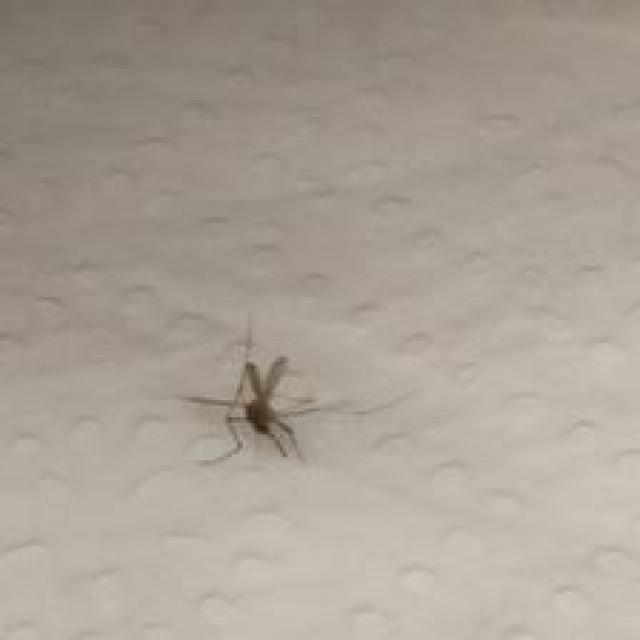Culex: (179, 314, 410, 466)
